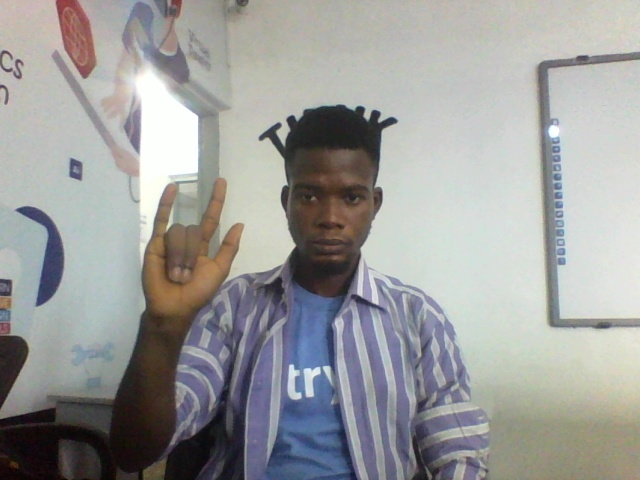i_love_you: (138, 172, 245, 340)
